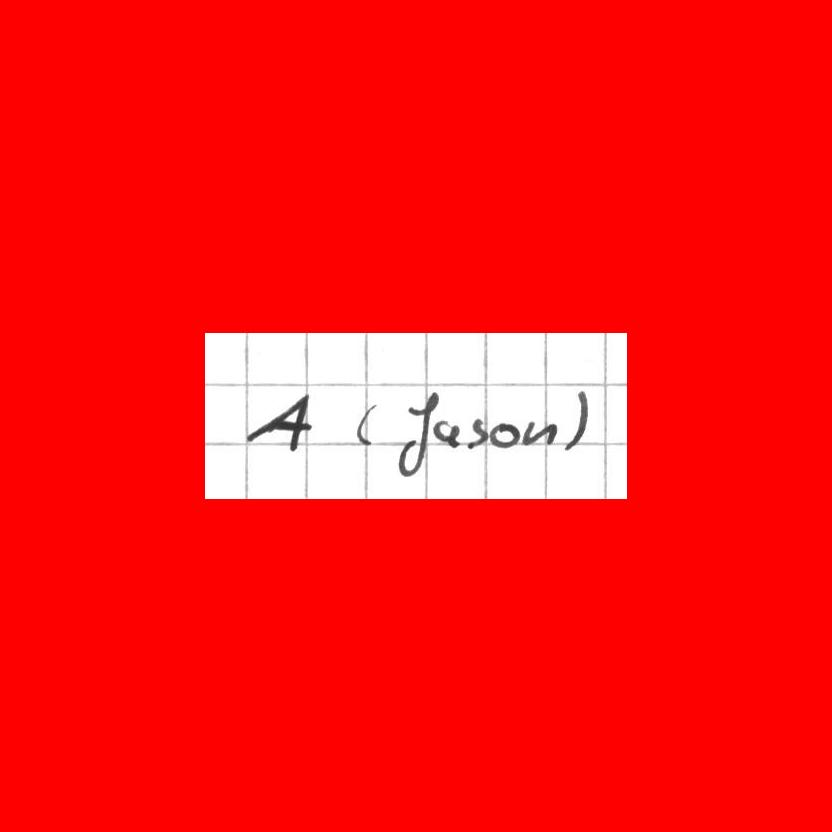Char: (245, 393, 314, 452), (392, 393, 435, 479), (562, 386, 594, 452), (353, 400, 376, 447), (522, 418, 554, 449), (489, 420, 518, 451), (435, 421, 463, 447), (466, 416, 487, 450)
